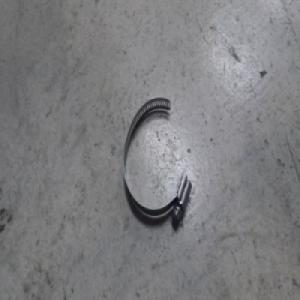AdjustableClamp: (122, 95, 192, 222)
